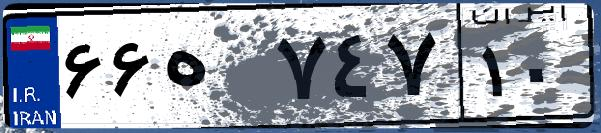0: (525, 38, 570, 115)
1: (475, 38, 525, 113)
4: (330, 28, 385, 110)
6: (57, 26, 110, 100), (110, 28, 158, 98)
7: (270, 28, 330, 110), (385, 28, 445, 110)
ه: (158, 20, 270, 120)
